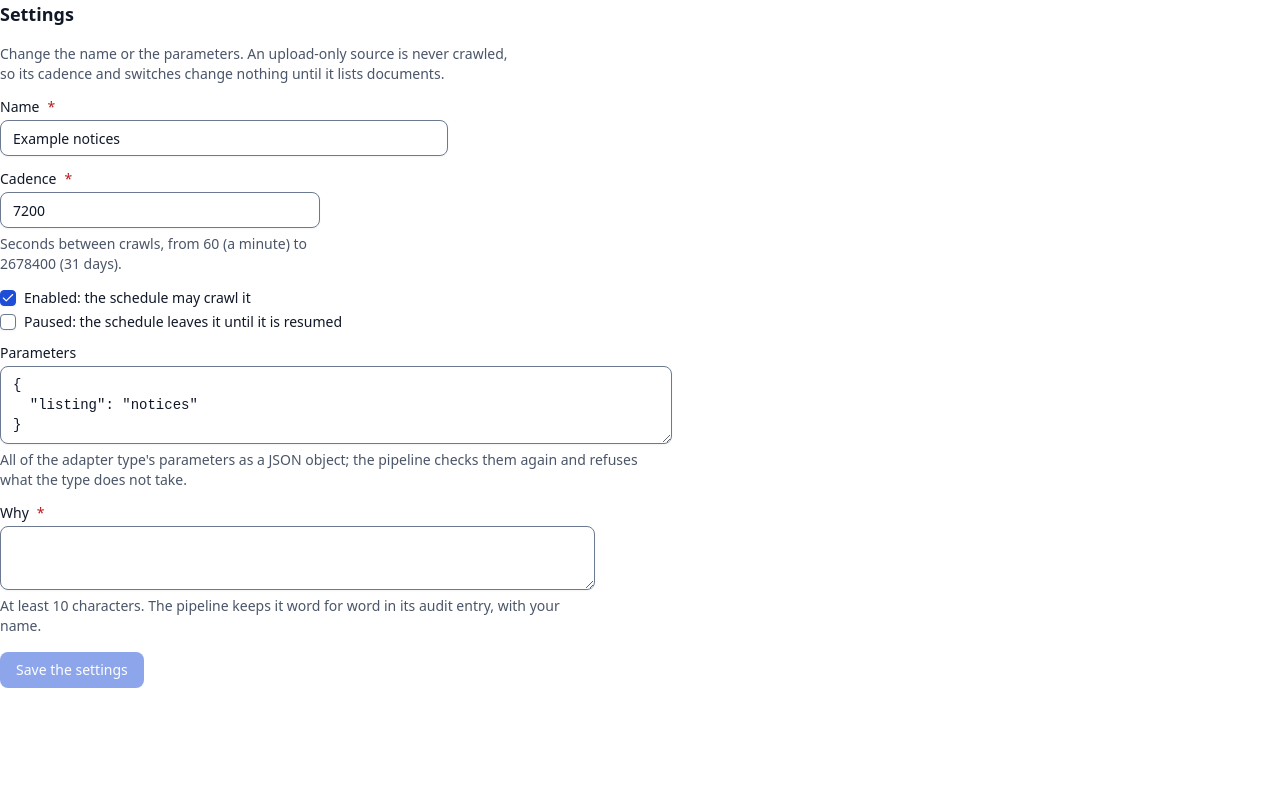
SettingsPanel › puts a refusal's field messages under their fields
Expected: the text "An upload-only source is never crawled" is shown, [0,44,508,83]
Replace the text in the field labelled "Cadence *" with "5" at (160, 210), box [0,192,320,228]
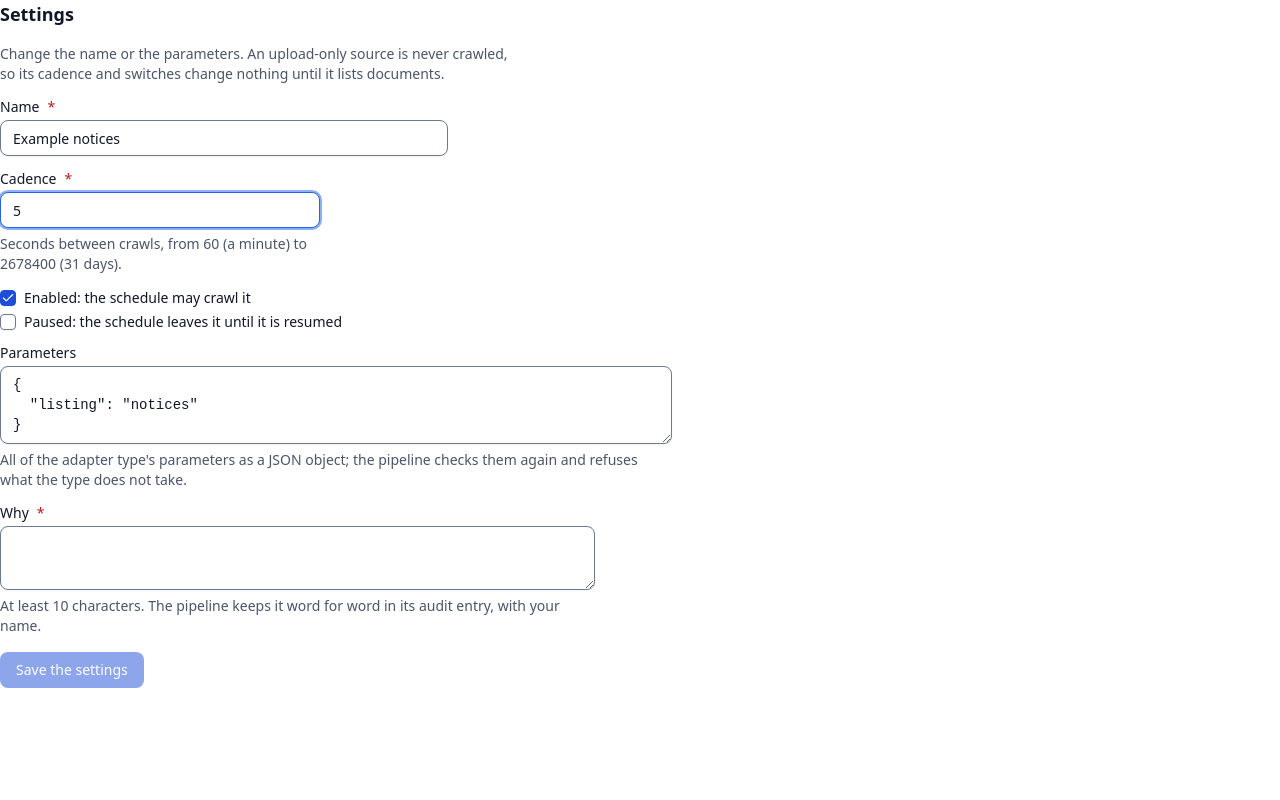
Click the checkbox named "Enabled" next to "Enabled: the schedule may crawl it" at (8, 298), box [0,290,16,306]
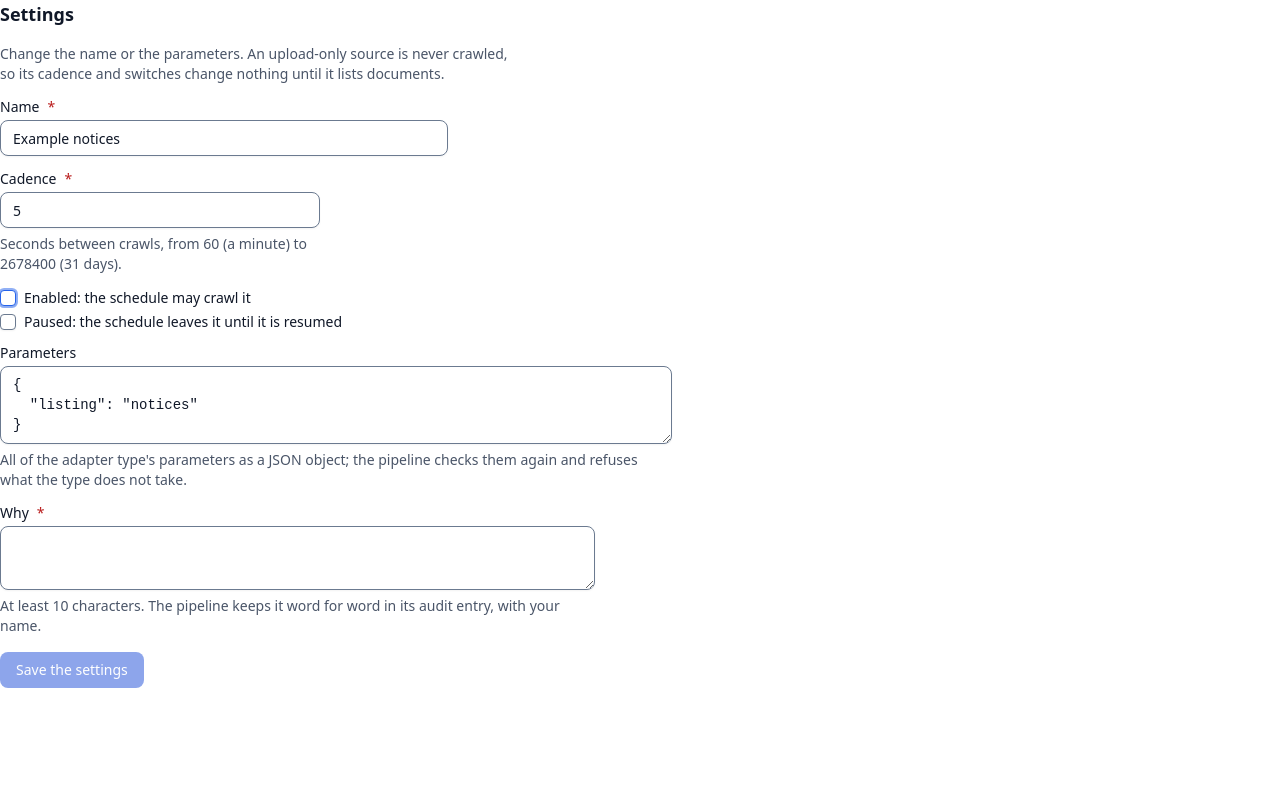
Type "Example reason of enough length" into the text box labelled "Why *" at (297, 558), box [0,526,595,590]
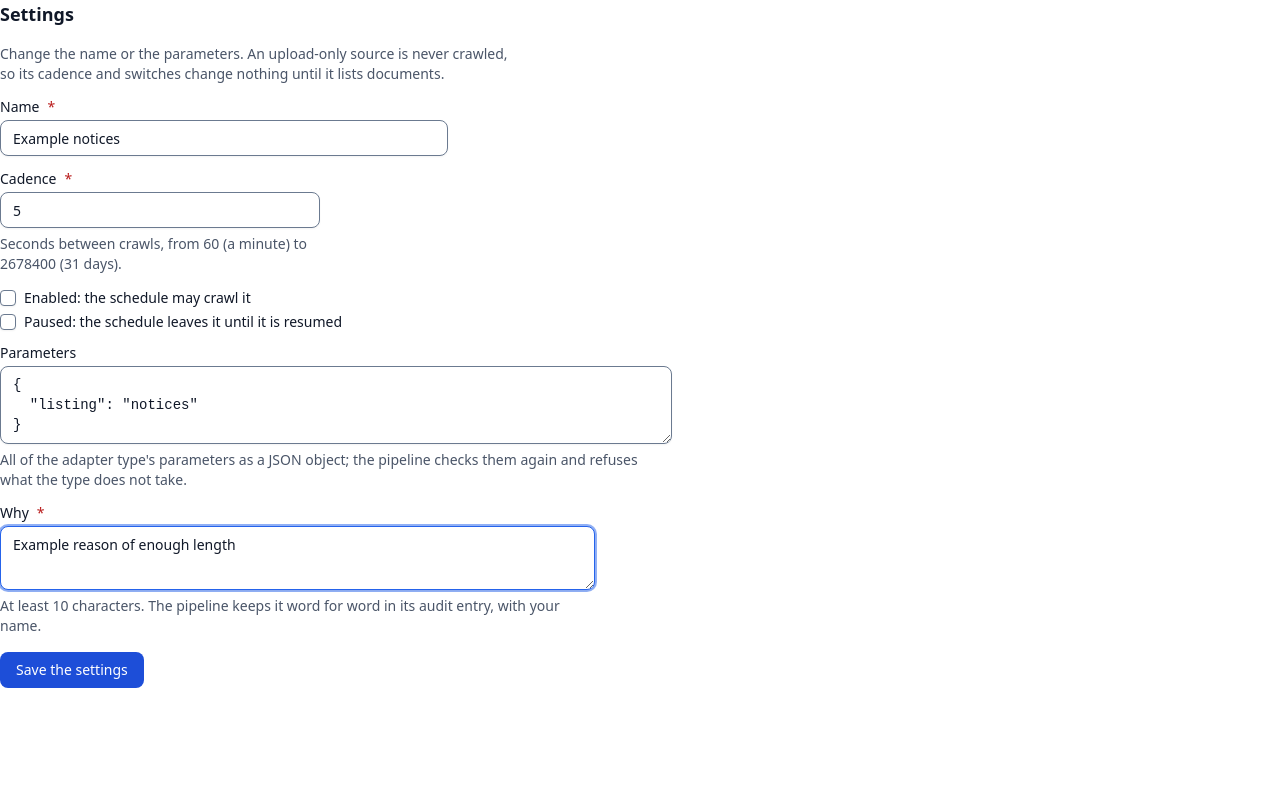
Click the button "Save the settings" at (72, 670), box [0,652,144,688]
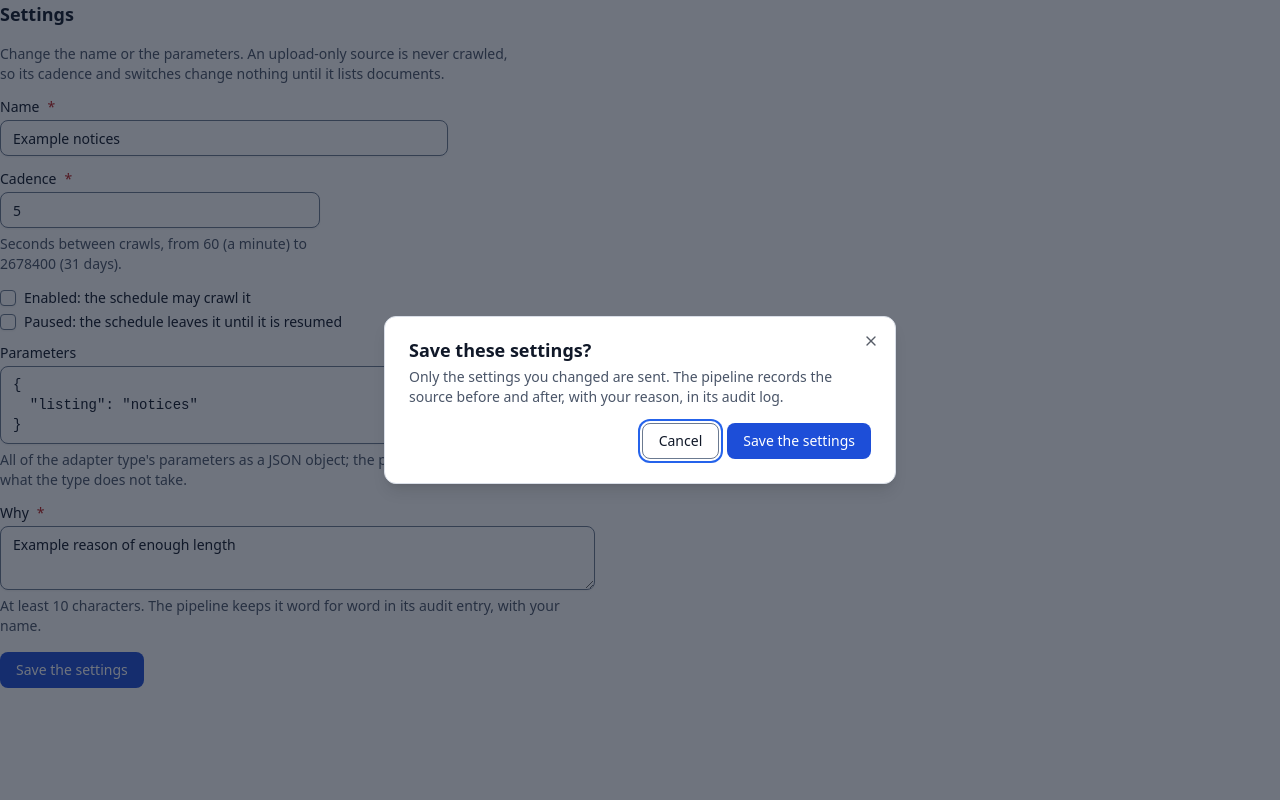
Click the button "Save the settings" at (799, 441), box [727,423,871,459]
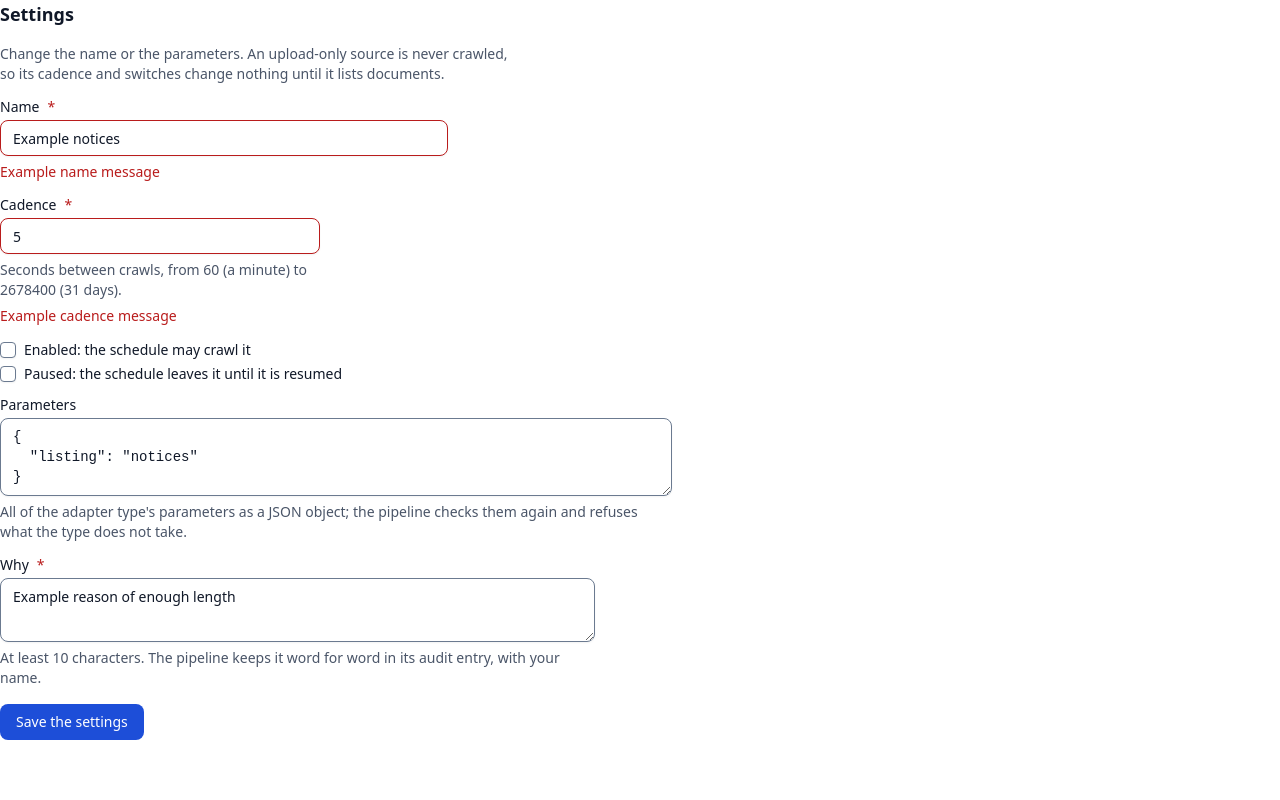
Now the text "Example cadence message" is shown, box [0,306,177,325]
Now the text "Example name message" is shown, box [0,162,160,181]
